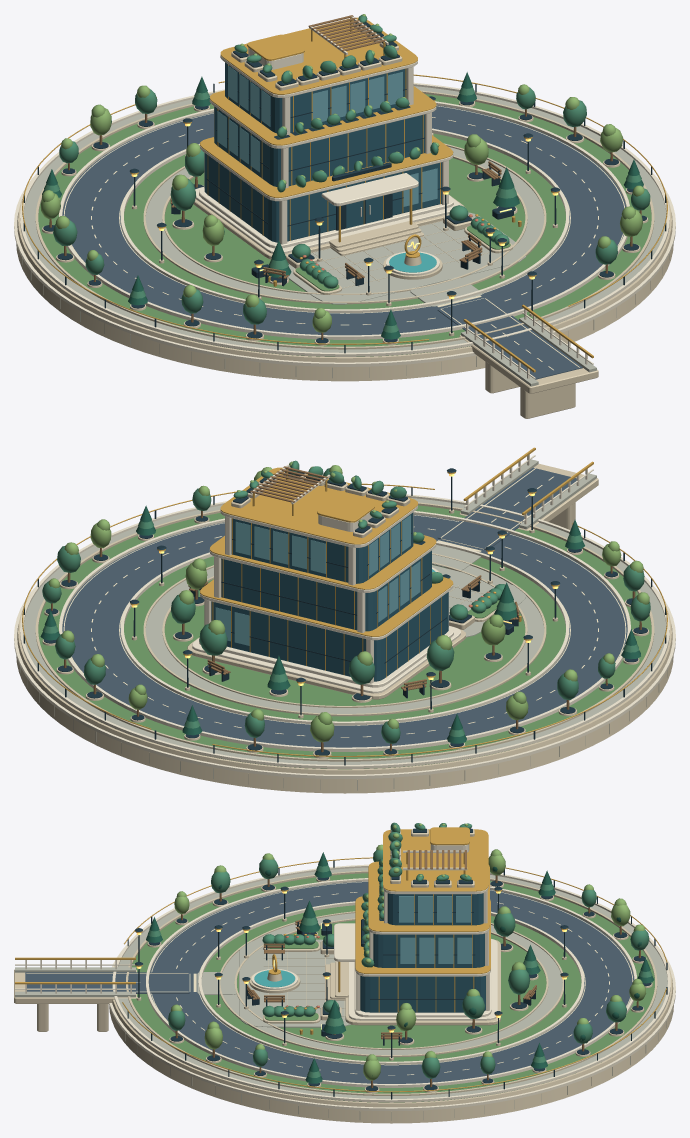
File: crm-island.glb
The picture shows the model from 3 angles, top to bottom: view 1: azimuth 30°, elevation 25°; view 2: azimuth 150°, elevation 25°; view 3: azimuth 270°, elevation 25°; orthographic projection. The views are drawn at different scales.
Parts seen in each view (by area): view 1: island-asphalt, island-limestone, island-ivory, island-grass, island-pavement, island-glass, island-gold, island-foliage, island-graphite, island-foliageLight, city-night-glass, island-timber (+3 smaller); view 2: island-asphalt, island-limestone, island-ivory, island-grass, island-glass, island-pavement, island-gold, island-foliage, island-foliageLight, island-graphite, city-night-glass, island-timber (+2 smaller); view 3: island-asphalt, island-limestone, island-ivory, island-grass, island-pavement, island-gold, island-foliage, island-glass, island-graphite, island-foliageLight, city-night-glass, island-foliageDark (+3 smaller).
Part boxes in pixels (bbox=[...]): island-asphalt: bbox=[62, 105, 626, 379]; island-limestone: bbox=[16, 23, 673, 418]; island-ivory: bbox=[14, 16, 675, 378]; island-grass: bbox=[38, 94, 651, 356]; island-pavement: bbox=[17, 86, 673, 386]; island-glass: bbox=[204, 62, 441, 242]; island-gold: bbox=[22, 17, 667, 372]; island-foliage: bbox=[44, 15, 650, 332]; island-graphite: bbox=[23, 22, 666, 353]; island-foliageLight: bbox=[40, 14, 644, 332]; city-night-glass: bbox=[217, 65, 437, 206]; island-timber: bbox=[49, 15, 641, 339]; island-asphalt: bbox=[62, 467, 627, 747]; island-limestone: bbox=[16, 463, 673, 793]; island-ivory: bbox=[14, 454, 675, 778]; island-grass: bbox=[38, 505, 651, 769]; island-glass: bbox=[211, 512, 448, 681]; island-pavement: bbox=[16, 459, 672, 790]; island-gold: bbox=[22, 447, 667, 756]; island-foliage: bbox=[42, 460, 650, 743]; island-foliageLight: bbox=[48, 461, 649, 742]; island-graphite: bbox=[23, 468, 666, 765]; city-night-glass: bbox=[215, 515, 420, 645]; island-timber: bbox=[51, 466, 641, 752]; island-asphalt: bbox=[25, 881, 634, 1083]; island-limestone: bbox=[14, 829, 673, 1123]; island-ivory: bbox=[15, 844, 675, 1110]; island-grass: bbox=[131, 873, 654, 1102]; island-pavement: bbox=[15, 867, 672, 1120]; island-gold: bbox=[15, 827, 667, 1092]; island-foliage: bbox=[147, 822, 652, 1078]; island-glass: bbox=[360, 893, 485, 1012]; island-graphite: bbox=[127, 828, 667, 1099]; island-foliageLight: bbox=[170, 823, 646, 1080]; city-night-glass: bbox=[399, 896, 472, 963]; island-foliageDark: bbox=[146, 852, 654, 1083].
Bounding box in the file's own units: 36.04 × 12.22 × 41.95.
